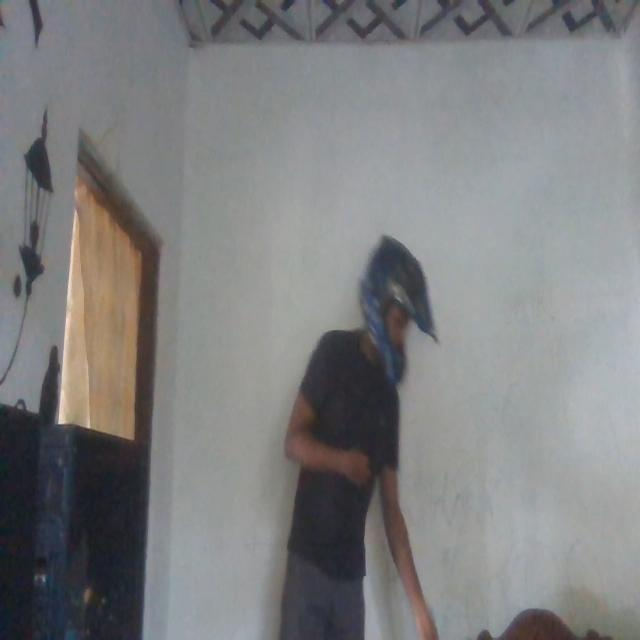Helmet_Wearer: (348, 226, 442, 394)
Person: (279, 300, 439, 640)
